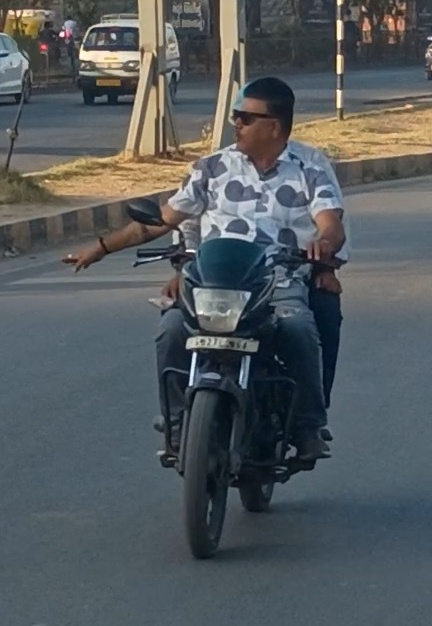BikeWithRider: (52, 69, 361, 565)
NoHelmet: (222, 70, 304, 159)
